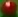brown: (0, 0, 18, 17)
